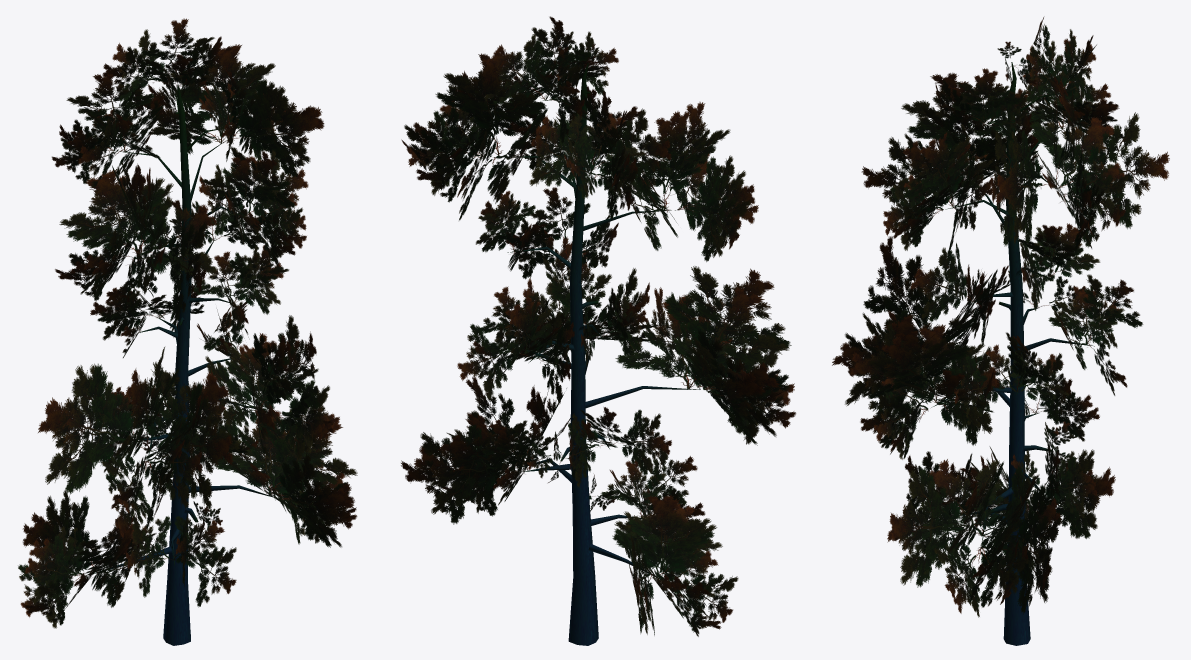
The model's file is Scoth_Pine_E.glb.
3 views of the same model, side by side, from view 1: azimuth 30°, elevation 25°; view 2: azimuth 150°, elevation 25°; view 3: azimuth 270°, elevation 25° (orthographic). The views are drawn at different scales.
Parts seen in each view (by area): view 1: F_LOD0; view 2: F_LOD0; view 3: F_LOD0.
Part boxes in pixels (x1=…): F_LOD0: x1=18, y1=18, x2=357, y2=645; F_LOD0: x1=401, y1=16, x2=795, y2=645; F_LOD0: x1=832, y1=16, x2=1169, y2=645.
Size of what is drawn, in the model's own units: 2.83 by 4.95 by 2.46.
2 materials, 2 textured.
